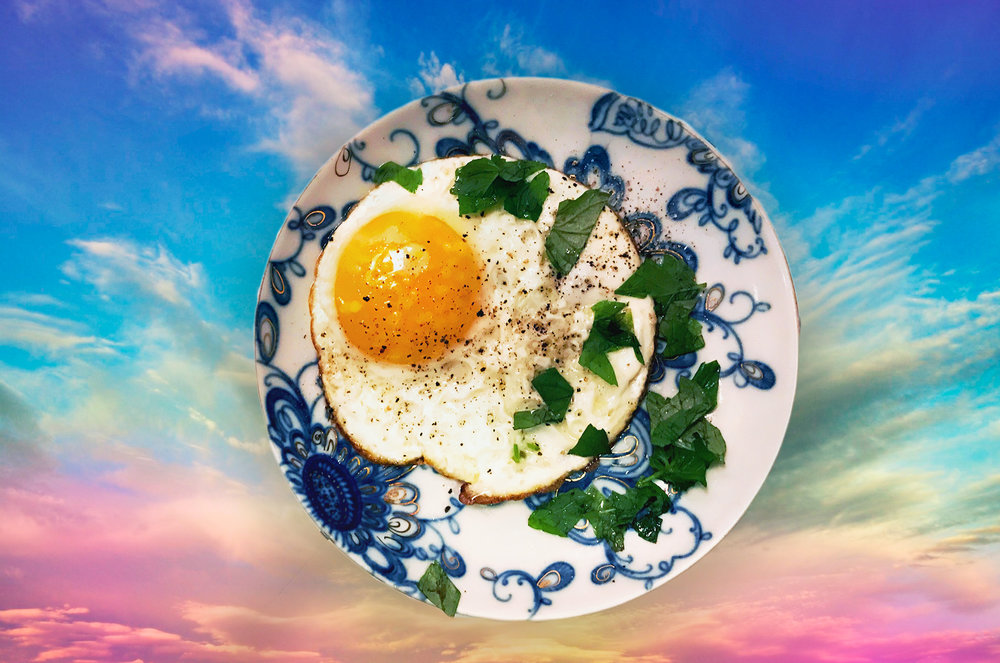fried egg: (365, 194, 540, 477)
